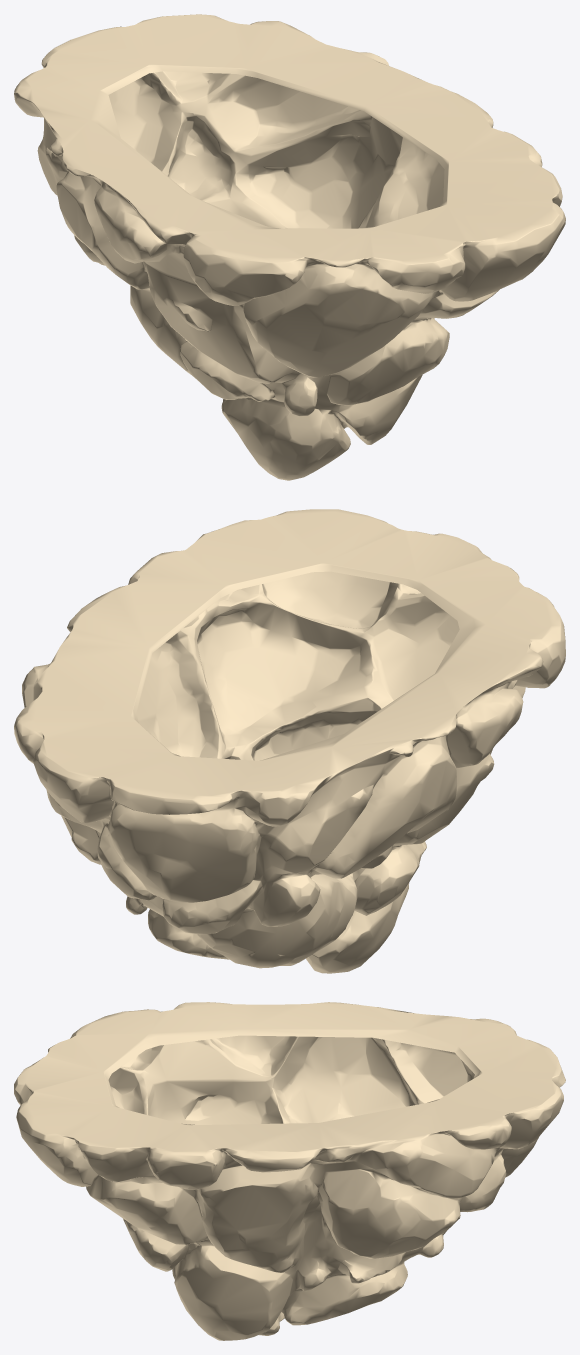
Rendered from island_1_LOD2.fbx.
3 views of the same model, one above another, from view 1: azimuth 30°, elevation 25°; view 2: azimuth 150°, elevation 25°; view 3: azimuth 270°, elevation 25° (orthographic). The views are drawn at different scales.
Visible parts, largest first — view 1: island_1_LOD2; view 2: island_1_LOD2; view 3: island_1_LOD2.
Part boxes in pixels (left/top/right/bottom): island_1_LOD2: left=14, top=14, right=565, bottom=480; island_1_LOD2: left=14, top=509, right=565, bottom=973; island_1_LOD2: left=14, top=1002, right=565, bottom=1340.
Bounding box in the file's own units: 2161 × 1696 × 3228.
